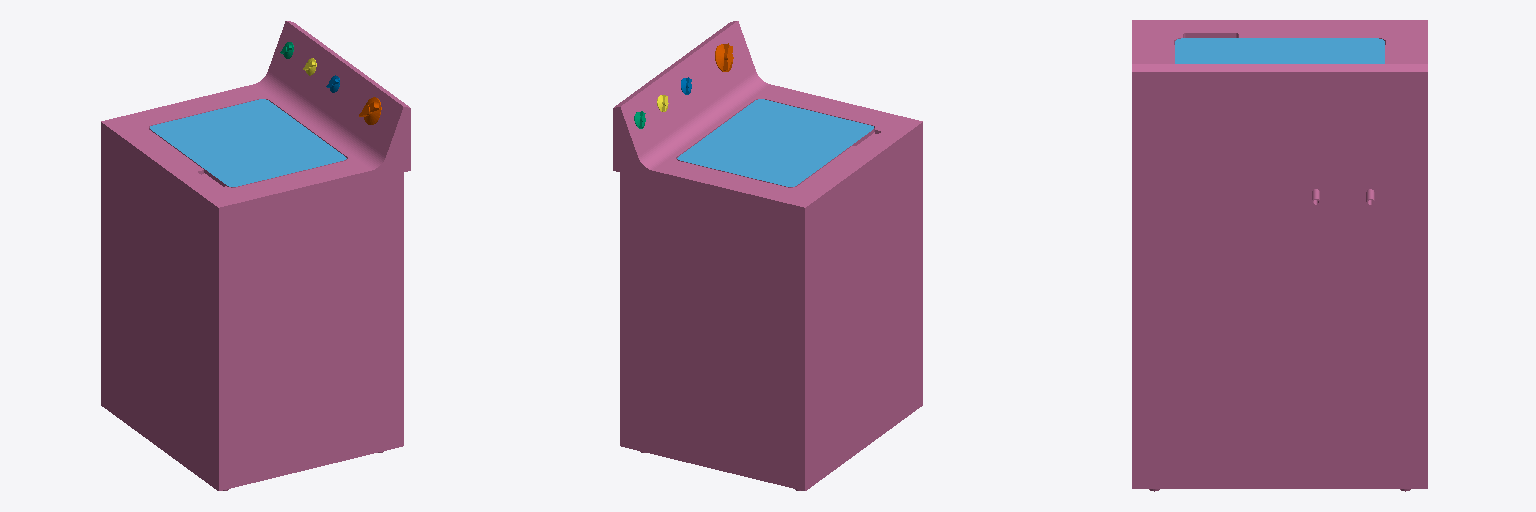
robot.urdf — partnet_ae8441235538d4415d85df7c37878bb6:
<?xml version="1.0" ?>
<robot name="partnet_ae8441235538d4415d85df7c37878bb6">
	<link name="base"/>
	<link name="link_0">
		<visual name="door-1">
			<origin xyz="0 -0.5514080451795014 0.2372633664309986"/>
			<geometry>
				<mesh filename="textured_objs/original-46.obj"/>
			</geometry>
		</visual>
		<collision>
			<origin xyz="0 -0.5514080451795014 0.2372633664309986"/>
			<geometry>
				<mesh filename="textured_objs/original-46.obj"/>
			</geometry>
		</collision>
	</link>
	<joint name="joint_0" type="revolute">
		<origin xyz="0 0.5514080451795014 -0.2372633664309986"/>
		<axis xyz="-1 0 0"/>
		<child link="link_0"/>
		<parent link="link_5"/>
		<limit lower="-0.0" upper="1.6461945504810516"/>
	</joint>
	<link name="link_1">
		<visual name="button-2">
			<origin xyz="0.35976421627751065 -0.7383382735020435 0.308580049095884"/>
			<geometry>
				<mesh filename="textured_objs/original-36.obj"/>
			</geometry>
		</visual>
		<visual name="button-2">
			<origin xyz="0.35976421627751065 -0.7383382735020435 0.308580049095884"/>
			<geometry>
				<mesh filename="textured_objs/original-35.obj"/>
			</geometry>
		</visual>
		<visual name="button-2">
			<origin xyz="0.35976421627751065 -0.7383382735020435 0.308580049095884"/>
			<geometry>
				<mesh filename="textured_objs/original-33.obj"/>
			</geometry>
		</visual>
		<visual name="button-2">
			<origin xyz="0.35976421627751065 -0.7383382735020435 0.308580049095884"/>
			<geometry>
				<mesh filename="textured_objs/original-37.obj"/>
			</geometry>
		</visual>
		<visual name="button-2">
			<origin xyz="0.35976421627751065 -0.7383382735020435 0.308580049095884"/>
			<geometry>
				<mesh filename="textured_objs/original-38.obj"/>
			</geometry>
		</visual>
		<visual name="button-2">
			<origin xyz="0.35976421627751065 -0.7383382735020435 0.308580049095884"/>
			<geometry>
				<mesh filename="textured_objs/original-34.obj"/>
			</geometry>
		</visual>
		<collision>
			<origin xyz="0.35976421627751065 -0.7383382735020435 0.308580049095884"/>
			<geometry>
				<mesh filename="textured_objs/original-36.obj"/>
			</geometry>
		</collision>
		<collision>
			<origin xyz="0.35976421627751065 -0.7383382735020435 0.308580049095884"/>
			<geometry>
				<mesh filename="textured_objs/original-35.obj"/>
			</geometry>
		</collision>
		<collision>
			<origin xyz="0.35976421627751065 -0.7383382735020435 0.308580049095884"/>
			<geometry>
				<mesh filename="textured_objs/original-33.obj"/>
			</geometry>
		</collision>
		<collision>
			<origin xyz="0.35976421627751065 -0.7383382735020435 0.308580049095884"/>
			<geometry>
				<mesh filename="textured_objs/original-37.obj"/>
			</geometry>
		</collision>
		<collision>
			<origin xyz="0.35976421627751065 -0.7383382735020435 0.308580049095884"/>
			<geometry>
				<mesh filename="textured_objs/original-38.obj"/>
			</geometry>
		</collision>
		<collision>
			<origin xyz="0.35976421627751065 -0.7383382735020435 0.308580049095884"/>
			<geometry>
				<mesh filename="textured_objs/original-34.obj"/>
			</geometry>
		</collision>
	</link>
	<joint name="joint_1" type="continuous">
		<origin xyz="-0.35976421627751065 0.7383382735020435 -0.308580049095884"/>
		<axis xyz="1.4077093392768743e-05 -0.3856092649989821 -0.9226621779117101"/>
		<child link="link_1"/>
		<parent link="link_5"/>
	</joint>
	<link name="link_2">
		<visual name="button-3">
			<origin xyz="0.18168890876828933 -0.7382648974356245 0.3082408212312694"/>
			<geometry>
				<mesh filename="textured_objs/original-30.obj"/>
			</geometry>
		</visual>
		<visual name="button-3">
			<origin xyz="0.18168890876828933 -0.7382648974356245 0.3082408212312694"/>
			<geometry>
				<mesh filename="textured_objs/original-27.obj"/>
			</geometry>
		</visual>
		<visual name="button-3">
			<origin xyz="0.18168890876828933 -0.7382648974356245 0.3082408212312694"/>
			<geometry>
				<mesh filename="textured_objs/original-31.obj"/>
			</geometry>
		</visual>
		<visual name="button-3">
			<origin xyz="0.18168890876828933 -0.7382648974356245 0.3082408212312694"/>
			<geometry>
				<mesh filename="textured_objs/original-32.obj"/>
			</geometry>
		</visual>
		<visual name="button-3">
			<origin xyz="0.18168890876828933 -0.7382648974356245 0.3082408212312694"/>
			<geometry>
				<mesh filename="textured_objs/original-29.obj"/>
			</geometry>
		</visual>
		<visual name="button-3">
			<origin xyz="0.18168890876828933 -0.7382648974356245 0.3082408212312694"/>
			<geometry>
				<mesh filename="textured_objs/original-28.obj"/>
			</geometry>
		</visual>
		<collision>
			<origin xyz="0.18168890876828933 -0.7382648974356245 0.3082408212312694"/>
			<geometry>
				<mesh filename="textured_objs/original-30.obj"/>
			</geometry>
		</collision>
		<collision>
			<origin xyz="0.18168890876828933 -0.7382648974356245 0.3082408212312694"/>
			<geometry>
				<mesh filename="textured_objs/original-27.obj"/>
			</geometry>
		</collision>
		<collision>
			<origin xyz="0.18168890876828933 -0.7382648974356245 0.3082408212312694"/>
			<geometry>
				<mesh filename="textured_objs/original-31.obj"/>
			</geometry>
		</collision>
		<collision>
			<origin xyz="0.18168890876828933 -0.7382648974356245 0.3082408212312694"/>
			<geometry>
				<mesh filename="textured_objs/original-32.obj"/>
			</geometry>
		</collision>
		<collision>
			<origin xyz="0.18168890876828933 -0.7382648974356245 0.3082408212312694"/>
			<geometry>
				<mesh filename="textured_objs/original-29.obj"/>
			</geometry>
		</collision>
		<collision>
			<origin xyz="0.18168890876828933 -0.7382648974356245 0.3082408212312694"/>
			<geometry>
				<mesh filename="textured_objs/original-28.obj"/>
			</geometry>
		</collision>
	</link>
	<joint name="joint_2" type="continuous">
		<origin xyz="-0.18168890876828933 0.7382648974356245 -0.3082408212312694"/>
		<axis xyz="3.408444117062708e-05 -0.3852795942952483 -0.9227998878727391"/>
		<child link="link_2"/>
		<parent link="link_5"/>
	</joint>
	<link name="link_3">
		<visual name="button-4">
			<origin xyz="-0.0031372084012542944 -0.7380697179067329 0.3089555697716622"/>
			<geometry>
				<mesh filename="textured_objs/original-43.obj"/>
			</geometry>
		</visual>
		<visual name="button-4">
			<origin xyz="-0.0031372084012542944 -0.7380697179067329 0.3089555697716622"/>
			<geometry>
				<mesh filename="textured_objs/original-39.obj"/>
			</geometry>
		</visual>
		<visual name="button-4">
			<origin xyz="-0.0031372084012542944 -0.7380697179067329 0.3089555697716622"/>
			<geometry>
				<mesh filename="textured_objs/original-44.obj"/>
			</geometry>
		</visual>
		<visual name="button-4">
			<origin xyz="-0.0031372084012542944 -0.7380697179067329 0.3089555697716622"/>
			<geometry>
				<mesh filename="textured_objs/original-41.obj"/>
			</geometry>
		</visual>
		<visual name="button-4">
			<origin xyz="-0.0031372084012542944 -0.7380697179067329 0.3089555697716622"/>
			<geometry>
				<mesh filename="textured_objs/original-42.obj"/>
			</geometry>
		</visual>
		<visual name="button-4">
			<origin xyz="-0.0031372084012542944 -0.7380697179067329 0.3089555697716622"/>
			<geometry>
				<mesh filename="textured_objs/original-40.obj"/>
			</geometry>
		</visual>
		<collision>
			<origin xyz="-0.0031372084012542944 -0.7380697179067329 0.3089555697716622"/>
			<geometry>
				<mesh filename="textured_objs/original-43.obj"/>
			</geometry>
		</collision>
		<collision>
			<origin xyz="-0.0031372084012542944 -0.7380697179067329 0.3089555697716622"/>
			<geometry>
				<mesh filename="textured_objs/original-39.obj"/>
			</geometry>
		</collision>
		<collision>
			<origin xyz="-0.0031372084012542944 -0.7380697179067329 0.3089555697716622"/>
			<geometry>
				<mesh filename="textured_objs/original-44.obj"/>
			</geometry>
		</collision>
		<collision>
			<origin xyz="-0.0031372084012542944 -0.7380697179067329 0.3089555697716622"/>
			<geometry>
				<mesh filename="textured_objs/original-41.obj"/>
			</geometry>
		</collision>
		<collision>
			<origin xyz="-0.0031372084012542944 -0.7380697179067329 0.3089555697716622"/>
			<geometry>
				<mesh filename="textured_objs/original-42.obj"/>
			</geometry>
		</collision>
		<collision>
			<origin xyz="-0.0031372084012542944 -0.7380697179067329 0.3089555697716622"/>
			<geometry>
				<mesh filename="textured_objs/original-40.obj"/>
			</geometry>
		</collision>
	</link>
	<joint name="joint_3" type="continuous">
		<origin xyz="0.0031372084012542944 0.7380697179067329 -0.3089555697716622"/>
		<axis xyz="-2.4067030022149536e-05 0.3861340893424736 0.9224426618866003"/>
		<child link="link_3"/>
		<parent link="link_5"/>
	</joint>
	<link name="link_4">
		<visual name="button-5">
			<origin xyz="-0.30009959157634397 -0.7399347620417146 0.3097135984983169"/>
			<geometry>
				<mesh filename="textured_objs/original-18.obj"/>
			</geometry>
		</visual>
		<visual name="button-5">
			<origin xyz="-0.30009959157634397 -0.7399347620417146 0.3097135984983169"/>
			<geometry>
				<mesh filename="textured_objs/original-19.obj"/>
			</geometry>
		</visual>
		<visual name="button-5">
			<origin xyz="-0.30009959157634397 -0.7399347620417146 0.3097135984983169"/>
			<geometry>
				<mesh filename="textured_objs/original-17.obj"/>
			</geometry>
		</visual>
		<visual name="button-5">
			<origin xyz="-0.30009959157634397 -0.7399347620417146 0.3097135984983169"/>
			<geometry>
				<mesh filename="textured_objs/original-15.obj"/>
			</geometry>
		</visual>
		<visual name="button-5">
			<origin xyz="-0.30009959157634397 -0.7399347620417146 0.3097135984983169"/>
			<geometry>
				<mesh filename="textured_objs/original-16.obj"/>
			</geometry>
		</visual>
		<visual name="button-5">
			<origin xyz="-0.30009959157634397 -0.7399347620417146 0.3097135984983169"/>
			<geometry>
				<mesh filename="textured_objs/original-20.obj"/>
			</geometry>
		</visual>
		<collision>
			<origin xyz="-0.30009959157634397 -0.7399347620417146 0.3097135984983169"/>
			<geometry>
				<mesh filename="textured_objs/original-18.obj"/>
			</geometry>
		</collision>
		<collision>
			<origin xyz="-0.30009959157634397 -0.7399347620417146 0.3097135984983169"/>
			<geometry>
				<mesh filename="textured_objs/original-19.obj"/>
			</geometry>
		</collision>
		<collision>
			<origin xyz="-0.30009959157634397 -0.7399347620417146 0.3097135984983169"/>
			<geometry>
				<mesh filename="textured_objs/original-17.obj"/>
			</geometry>
		</collision>
		<collision>
			<origin xyz="-0.30009959157634397 -0.7399347620417146 0.3097135984983169"/>
			<geometry>
				<mesh filename="textured_objs/original-15.obj"/>
			</geometry>
		</collision>
		<collision>
			<origin xyz="-0.30009959157634397 -0.7399347620417146 0.3097135984983169"/>
			<geometry>
				<mesh filename="textured_objs/original-16.obj"/>
			</geometry>
		</collision>
		<collision>
			<origin xyz="-0.30009959157634397 -0.7399347620417146 0.3097135984983169"/>
			<geometry>
				<mesh filename="textured_objs/original-20.obj"/>
			</geometry>
		</collision>
	</link>
	<joint name="joint_4" type="continuous">
		<origin xyz="0.30009959157634397 0.7399347620417146 -0.3097135984983169"/>
		<axis xyz="2.2519268656708346e-05 0.3861021712159842 0.9224560221903185"/>
		<child link="link_4"/>
		<parent link="link_5"/>
	</joint>
	<link name="link_5">
		<visual name="base_body-6">
			<origin xyz="0 0 0"/>
			<geometry>
				<mesh filename="textured_objs/original-21.obj"/>
			</geometry>
		</visual>
		<visual name="base_body-6">
			<origin xyz="0 0 0"/>
			<geometry>
				<mesh filename="textured_objs/original-52.obj"/>
			</geometry>
		</visual>
		<visual name="base_body-6">
			<origin xyz="0 0 0"/>
			<geometry>
				<mesh filename="textured_objs/original-22.obj"/>
			</geometry>
		</visual>
		<visual name="base_body-6">
			<origin xyz="0 0 0"/>
			<geometry>
				<mesh filename="textured_objs/original-26.obj"/>
			</geometry>
		</visual>
		<visual name="base_body-6">
			<origin xyz="0 0 0"/>
			<geometry>
				<mesh filename="textured_objs/original-2.obj"/>
			</geometry>
		</visual>
		<visual name="base_body-6">
			<origin xyz="0 0 0"/>
			<geometry>
				<mesh filename="textured_objs/original-9.obj"/>
			</geometry>
		</visual>
		<visual name="base_body-6">
			<origin xyz="0 0 0"/>
			<geometry>
				<mesh filename="textured_objs/original-45.obj"/>
			</geometry>
		</visual>
		<visual name="base_body-6">
			<origin xyz="0 0 0"/>
			<geometry>
				<mesh filename="textured_objs/original-49.obj"/>
			</geometry>
		</visual>
		<visual name="base_body-6">
			<origin xyz="0 0 0"/>
			<geometry>
				<mesh filename="textured_objs/original-54.obj"/>
			</geometry>
		</visual>
		<visual name="base_body-6">
			<origin xyz="0 0 0"/>
			<geometry>
				<mesh filename="textured_objs/original-51.obj"/>
			</geometry>
		</visual>
		<visual name="base_body-6">
			<origin xyz="0 0 0"/>
			<geometry>
				<mesh filename="textured_objs/original-50.obj"/>
			</geometry>
		</visual>
		<visual name="base_body-6">
			<origin xyz="0 0 0"/>
			<geometry>
				<mesh filename="textured_objs/original-6.obj"/>
			</geometry>
		</visual>
		<visual name="base_body-6">
			<origin xyz="0 0 0"/>
			<geometry>
				<mesh filename="textured_objs/original-48.obj"/>
			</geometry>
		</visual>
		<visual name="base_body-6">
			<origin xyz="0 0 0"/>
			<geometry>
				<mesh filename="textured_objs/original-23.obj"/>
			</geometry>
		</visual>
		<visual name="base_body-6">
			<origin xyz="0 0 0"/>
			<geometry>
				<mesh filename="textured_objs/original-25.obj"/>
			</geometry>
		</visual>
		<visual name="base_body-6">
			<origin xyz="0 0 0"/>
			<geometry>
				<mesh filename="textured_objs/original-12.obj"/>
			</geometry>
		</visual>
		<visual name="base_body-6">
			<origin xyz="0 0 0"/>
			<geometry>
				<mesh filename="textured_objs/original-24.obj"/>
			</geometry>
		</visual>
		<visual name="base_body-6">
			<origin xyz="0 0 0"/>
			<geometry>
				<mesh filename="textured_objs/original-47.obj"/>
			</geometry>
		</visual>
		<visual name="base_body-6">
			<origin xyz="0 0 0"/>
			<geometry>
				<mesh filename="textured_objs/original-53.obj"/>
			</geometry>
		</visual>
		<collision>
			<origin xyz="0 0 0"/>
			<geometry>
				<mesh filename="textured_objs/original-21.obj"/>
			</geometry>
		</collision>
		<collision>
			<origin xyz="0 0 0"/>
			<geometry>
				<mesh filename="textured_objs/original-52.obj"/>
			</geometry>
		</collision>
		<collision>
			<origin xyz="0 0 0"/>
			<geometry>
				<mesh filename="textured_objs/original-22.obj"/>
			</geometry>
		</collision>
		<collision>
			<origin xyz="0 0 0"/>
			<geometry>
				<mesh filename="textured_objs/original-26.obj"/>
			</geometry>
		</collision>
		<collision>
			<origin xyz="0 0 0"/>
			<geometry>
				<mesh filename="textured_objs/original-2.obj"/>
			</geometry>
		</collision>
		<collision>
			<origin xyz="0 0 0"/>
			<geometry>
				<mesh filename="textured_objs/original-9.obj"/>
			</geometry>
		</collision>
		<collision>
			<origin xyz="0 0 0"/>
			<geometry>
				<mesh filename="textured_objs/original-45.obj"/>
			</geometry>
		</collision>
		<collision>
			<origin xyz="0 0 0"/>
			<geometry>
				<mesh filename="textured_objs/original-49.obj"/>
			</geometry>
		</collision>
		<collision>
			<origin xyz="0 0 0"/>
			<geometry>
				<mesh filename="textured_objs/original-54.obj"/>
			</geometry>
		</collision>
		<collision>
			<origin xyz="0 0 0"/>
			<geometry>
				<mesh filename="textured_objs/original-51.obj"/>
			</geometry>
		</collision>
		<collision>
			<origin xyz="0 0 0"/>
			<geometry>
				<mesh filename="textured_objs/original-50.obj"/>
			</geometry>
		</collision>
		<collision>
			<origin xyz="0 0 0"/>
			<geometry>
				<mesh filename="textured_objs/original-6.obj"/>
			</geometry>
		</collision>
		<collision>
			<origin xyz="0 0 0"/>
			<geometry>
				<mesh filename="textured_objs/original-48.obj"/>
			</geometry>
		</collision>
		<collision>
			<origin xyz="0 0 0"/>
			<geometry>
				<mesh filename="textured_objs/original-23.obj"/>
			</geometry>
		</collision>
		<collision>
			<origin xyz="0 0 0"/>
			<geometry>
				<mesh filename="textured_objs/original-25.obj"/>
			</geometry>
		</collision>
		<collision>
			<origin xyz="0 0 0"/>
			<geometry>
				<mesh filename="textured_objs/original-12.obj"/>
			</geometry>
		</collision>
		<collision>
			<origin xyz="0 0 0"/>
			<geometry>
				<mesh filename="textured_objs/original-24.obj"/>
			</geometry>
		</collision>
		<collision>
			<origin xyz="0 0 0"/>
			<geometry>
				<mesh filename="textured_objs/original-47.obj"/>
			</geometry>
		</collision>
		<collision>
			<origin xyz="0 0 0"/>
			<geometry>
				<mesh filename="textured_objs/original-53.obj"/>
			</geometry>
		</collision>
	</link>
	<joint name="joint_5" type="fixed">
		<origin rpy="1.570796326794897 0 -1.570796326794897" xyz="0 0 0"/>
		<child link="link_5"/>
		<parent link="base"/>
	</joint>
</robot>

--- Render facts (derived) ---
3 views of the same robot in one strip: view 1: azimuth 30°, elevation 25°; view 2: azimuth 150°, elevation 25°; view 3: azimuth 270°, elevation 25° (orthographic).
Robot: partnet_ae8441235538d4415d85df7c37878bb6 — 7 links, 6 joints (1 revolute, 4 continuous, 1 fixed); root link base; default pose: every joint at zero.
Visible links, largest first — view 1: link_5, link_0; view 2: link_5, link_0; view 3: link_5, link_0.
Link boxes in pixels (bbox=[...]): link_5: bbox=[101, 21, 410, 490]; link_0: bbox=[150, 99, 346, 186]; link_5: bbox=[613, 21, 922, 490]; link_0: bbox=[677, 99, 873, 186]; link_5: bbox=[1132, 20, 1427, 491]; link_0: bbox=[1175, 38, 1384, 63].
Size in the robot's own frame: 0.9082 by 0.9255 by 1.5 metres.
41 mesh visuals loaded from 44 distinct referenced files (41 OBJ); not drawn: 3 (reference not matched to a file when rendering).
